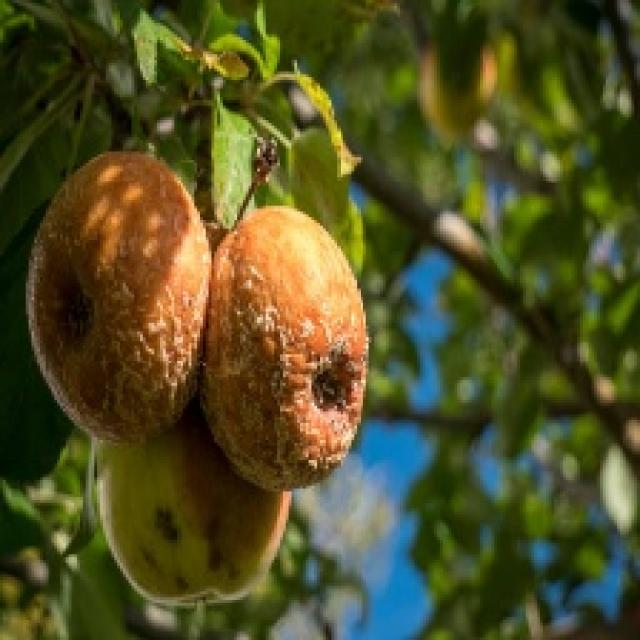rotten_apple: (31, 156, 207, 436), (214, 216, 359, 473), (97, 443, 289, 595)
